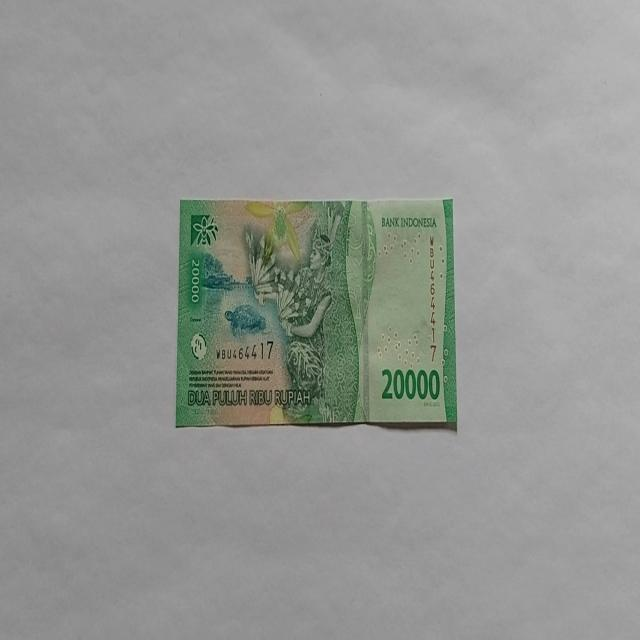dua puluh ribu rupiah: (175, 196, 458, 431)
